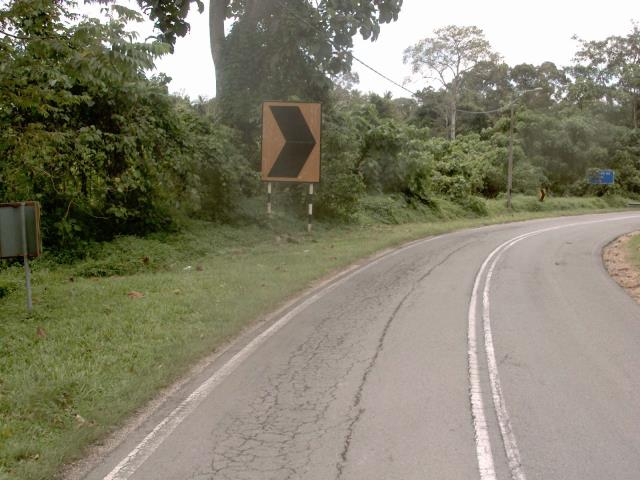traffic_sign: (249, 87, 330, 192)
